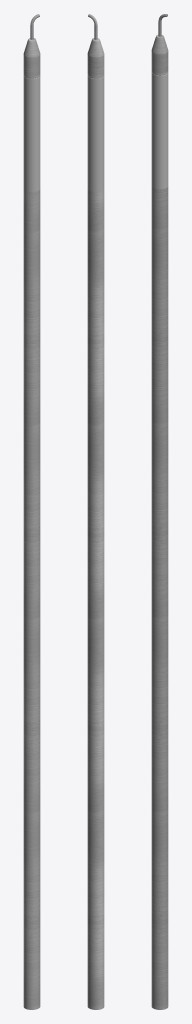
3 renders of one model, left to right at view 1: azimuth 30°, elevation 25°; view 2: azimuth 150°, elevation 25°; view 3: azimuth 330°, elevation 25°, orthographic.
Visible parts, largest first — view 1: polySurface422; view 2: polySurface422; view 3: polySurface422.
Part boxes in pixels (x1,y1,x2,y2): polySurface422: (23, 14, 40, 1009); polySurface422: (87, 14, 104, 1009); polySurface422: (151, 14, 168, 1009).
Size of the model in its own units: 2.09 by 134 by 2.02.
